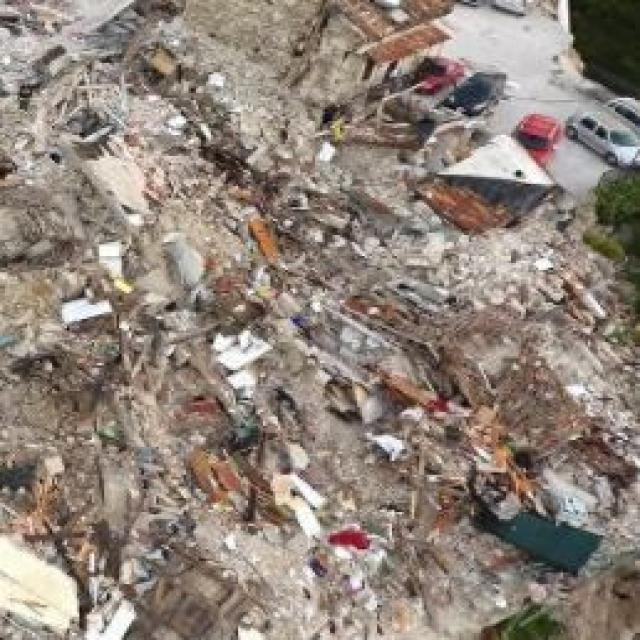collapsed_building: (49, 0, 483, 593)
